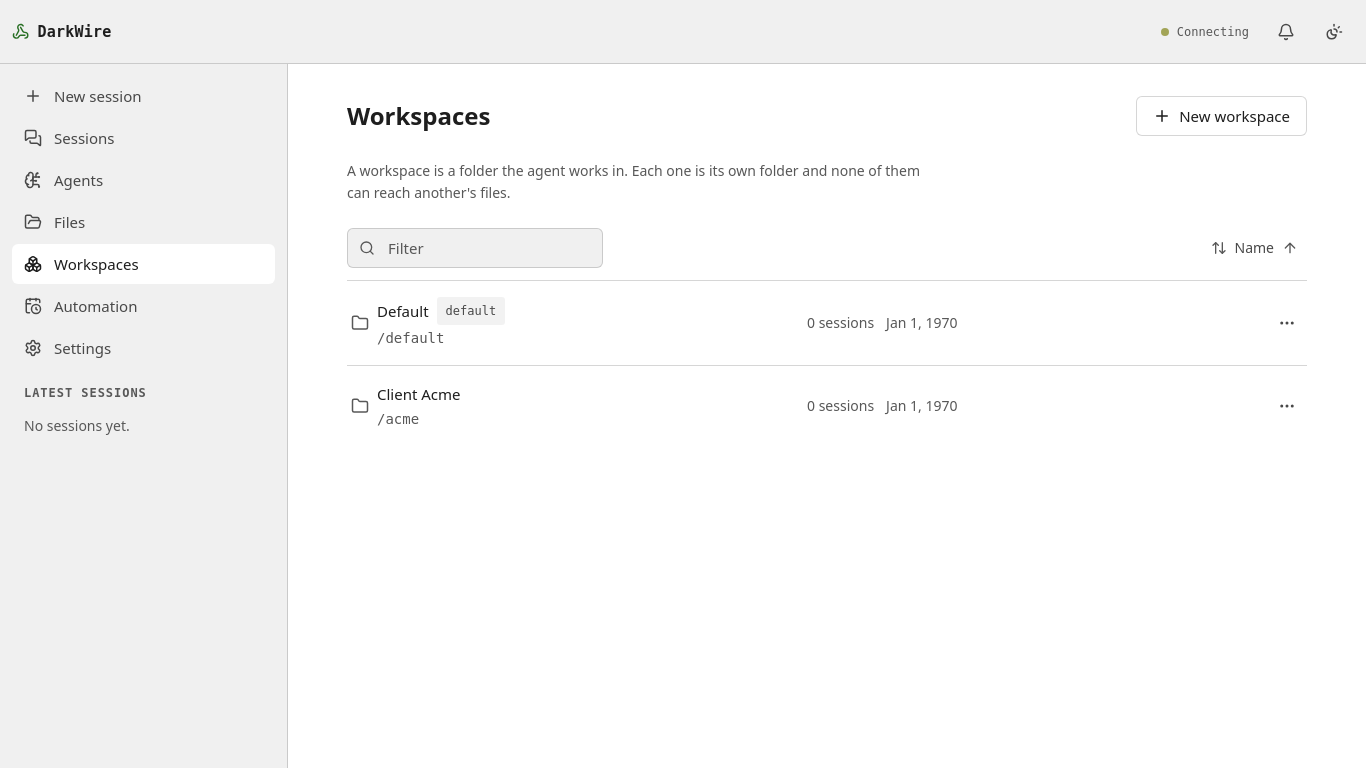
Test: the workspaces page › cannot delete the default, because it is the parent of the others
Step 1. Click the button named "Actions for Default" → [1287, 323], box [1267,303,1307,343]
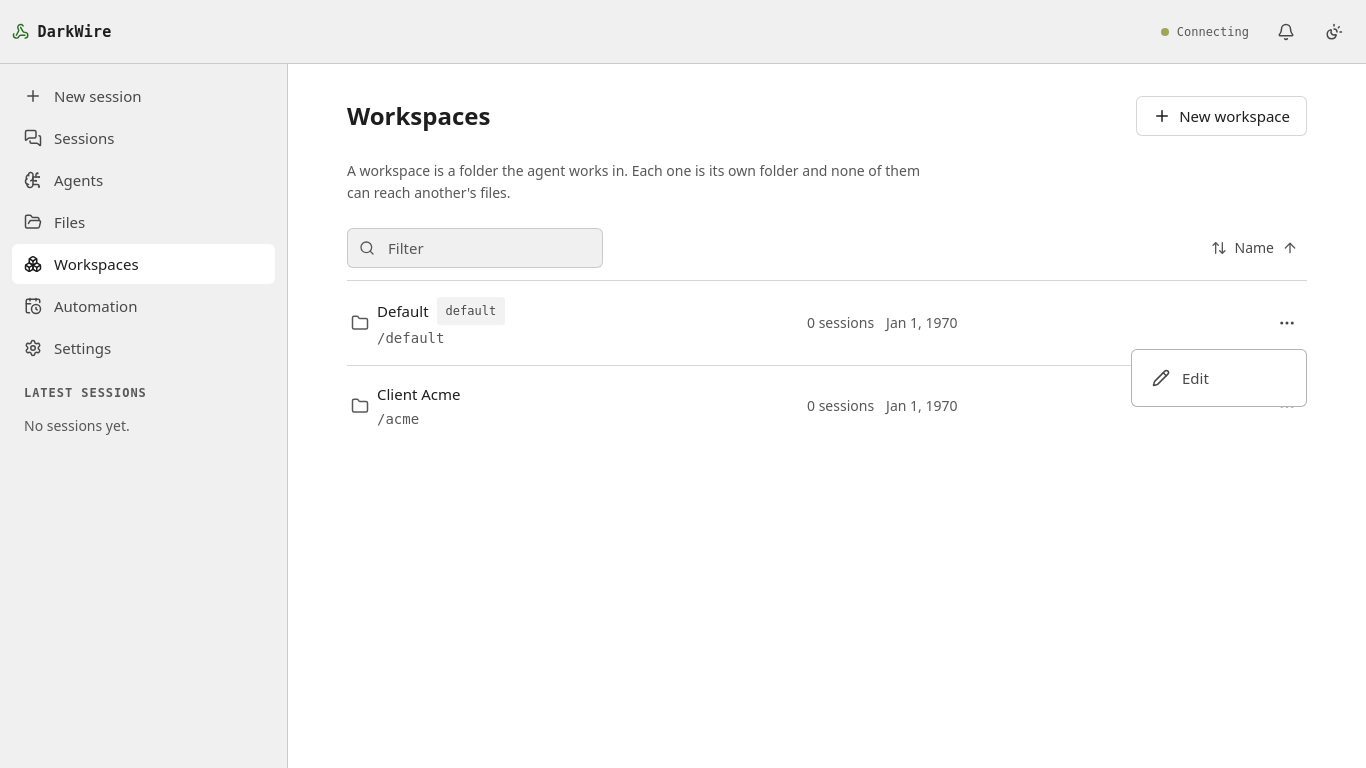
Expected: the menu item "Edit" is shown, [1152,368,1209,388]
